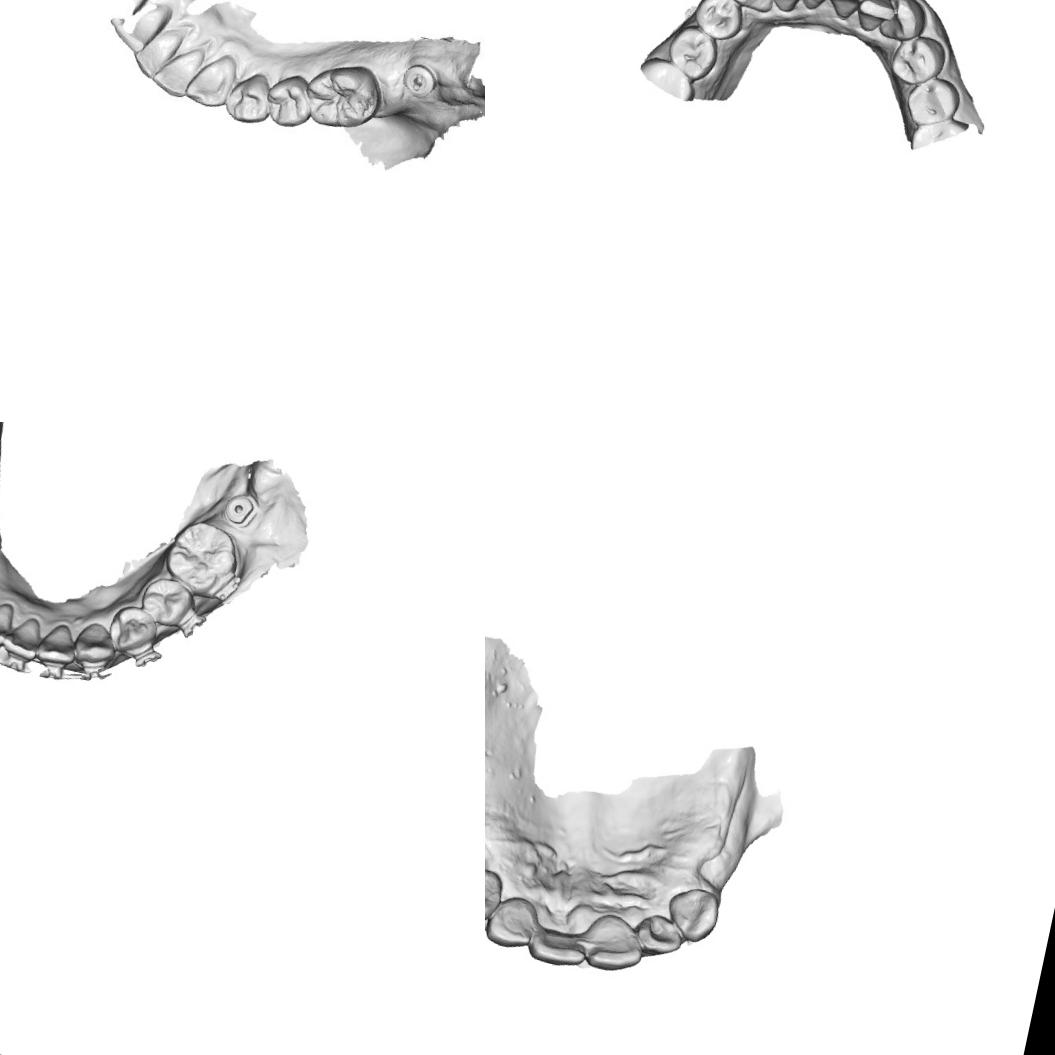canine: (660, 882, 724, 948), (182, 50, 238, 114), (69, 616, 122, 670), (876, 0, 932, 46), (485, 861, 507, 925), (723, 0, 780, 14)
implant: (219, 488, 261, 530)
implant_minus: (400, 63, 442, 102)
incisor: (578, 910, 649, 978), (110, 0, 175, 59), (148, 40, 204, 102), (485, 890, 540, 953), (128, 22, 182, 84), (632, 910, 687, 961), (526, 926, 588, 970), (33, 618, 82, 670), (0, 610, 45, 664), (851, 0, 900, 37), (821, 0, 866, 23), (0, 594, 16, 649), (756, 0, 806, 15), (790, 0, 836, 14)
molar: (159, 514, 246, 602), (298, 55, 387, 137)
premolar: (886, 28, 950, 92), (900, 71, 964, 133), (662, 20, 724, 84), (135, 572, 198, 632), (262, 68, 318, 132), (104, 600, 162, 658), (224, 68, 276, 128), (689, 0, 749, 44)
